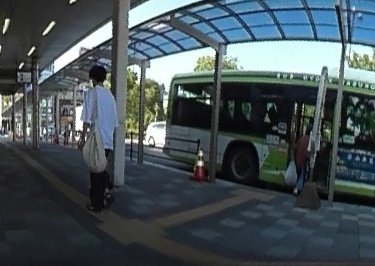person: (80, 64, 117, 210), (291, 125, 314, 195)
